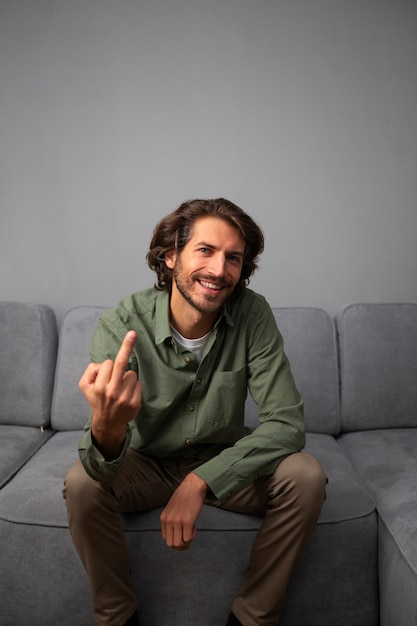insulting_gesture: (75, 329, 144, 449)
